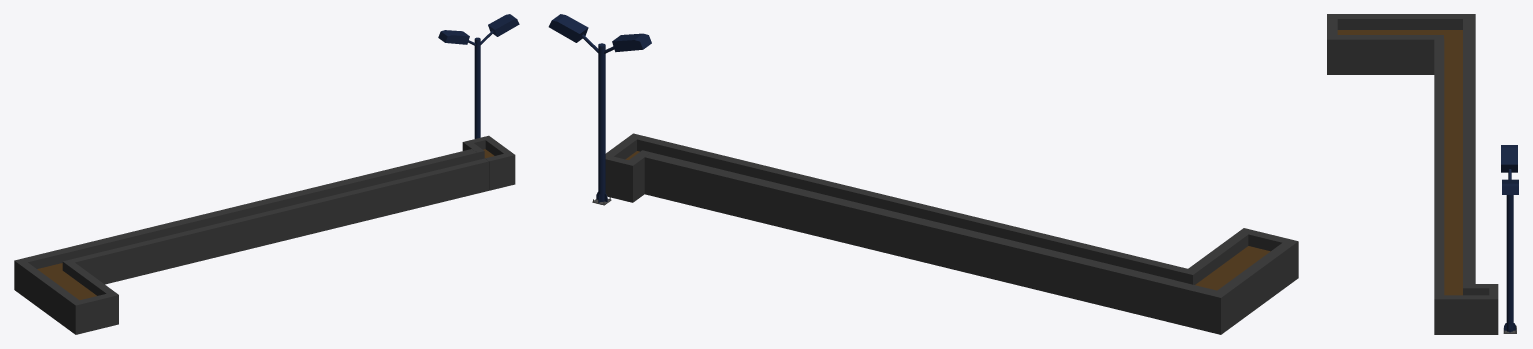
File: Stone Wall and no Grass2.fbx
3 renders of one model, left to right at view 1: azimuth 30°, elevation 25°; view 2: azimuth 150°, elevation 25°; view 3: azimuth 270°, elevation 25°, orthographic. The views are drawn at different scales.
Parts seen in each view (by area): view 1: Cube.015, Cylinder, Cube.013, Cube.002, Cube.005; view 2: Cube.015, Cylinder, Cube.013, Cube.002, Cube.005; view 3: Cube.015, Cube.045, Cube.011, Cylinder, Cube.013, Cube.005, Cube.002.
Part boxes in pixels (left/top/right/bottom): Cube.015: left=14, top=135, right=515, bottom=334; Cylinder: left=474, top=37, right=480, bottom=138; Cube.013: left=43, top=267, right=96, bottom=300; Cube.002: left=488, top=14, right=519, bottom=36; Cube.005: left=438, top=30, right=469, bottom=44; Cube.015: left=605, top=133, right=1298, bottom=334; Cylinder: left=598, top=43, right=605, bottom=201; Cube.013: left=1195, top=246, right=1270, bottom=290; Cube.002: left=548, top=14, right=588, bottom=42; Cube.005: left=612, top=33, right=651, bottom=52; Cube.015: left=1327, top=14, right=1498, bottom=334; Cube.045: left=1442, top=30, right=1462, bottom=223; Cube.011: left=1444, top=108, right=1462, bottom=295; Cylinder: left=1506, top=195, right=1513, bottom=331; Cube.013: left=1337, top=30, right=1442, bottom=34; Cube.005: left=1501, top=145, right=1517, bottom=172; Cube.002: left=1502, top=179, right=1518, bottom=194.
Bounding box in the file's own units: 2731 × 696 × 727.
